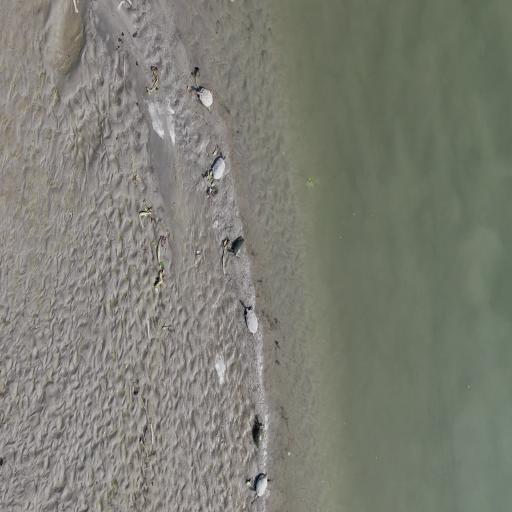turtle: (211, 149, 231, 185), (232, 231, 249, 261), (198, 83, 216, 110), (244, 306, 260, 336), (254, 470, 270, 500), (255, 416, 266, 456)
